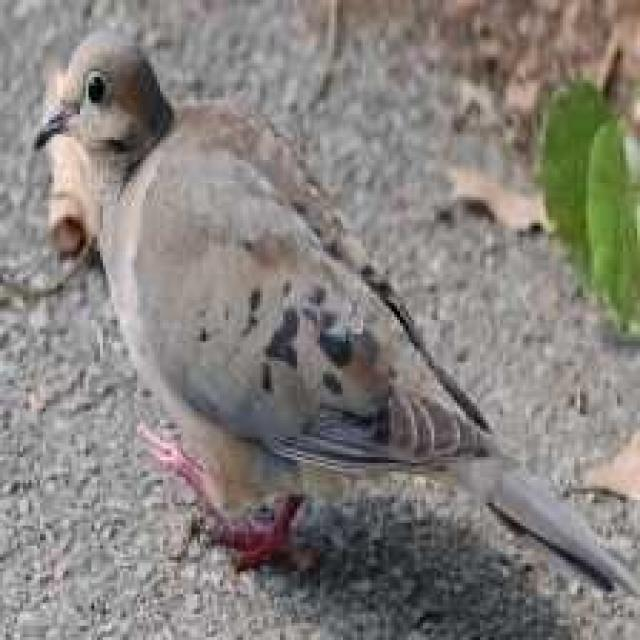bird: (32, 28, 640, 605)
